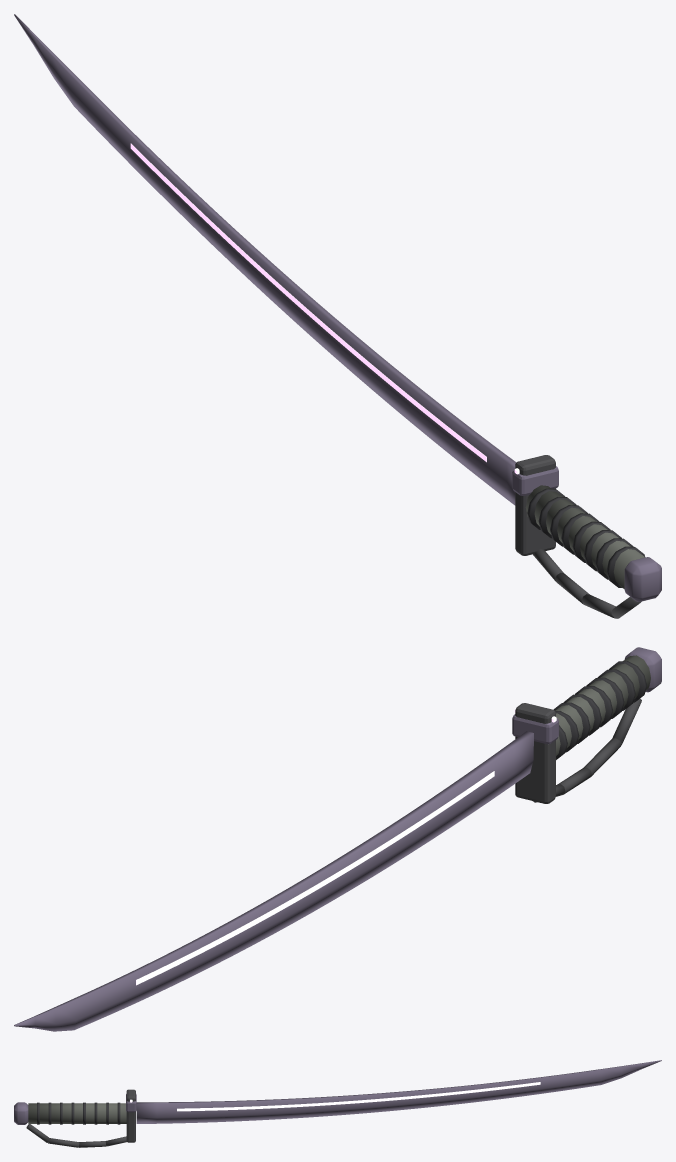
File: savle.glb
3 views of the same model, one above another, from view 1: azimuth 30°, elevation 25°; view 2: azimuth 150°, elevation 25°; view 3: azimuth 270°, elevation 25° (orthographic). The views are drawn at different scales.
Visible parts, largest first — view 1: Savle; view 2: Savle; view 3: Savle.
Boxes of the visible parts, <box> form: Savle: <box>14,14,661,618</box>; Savle: <box>14,647,661,1031</box>; Savle: <box>14,1060,661,1147</box>.
Bounding box in the file's own units: 0.035 × 0.1425 × 0.956.
